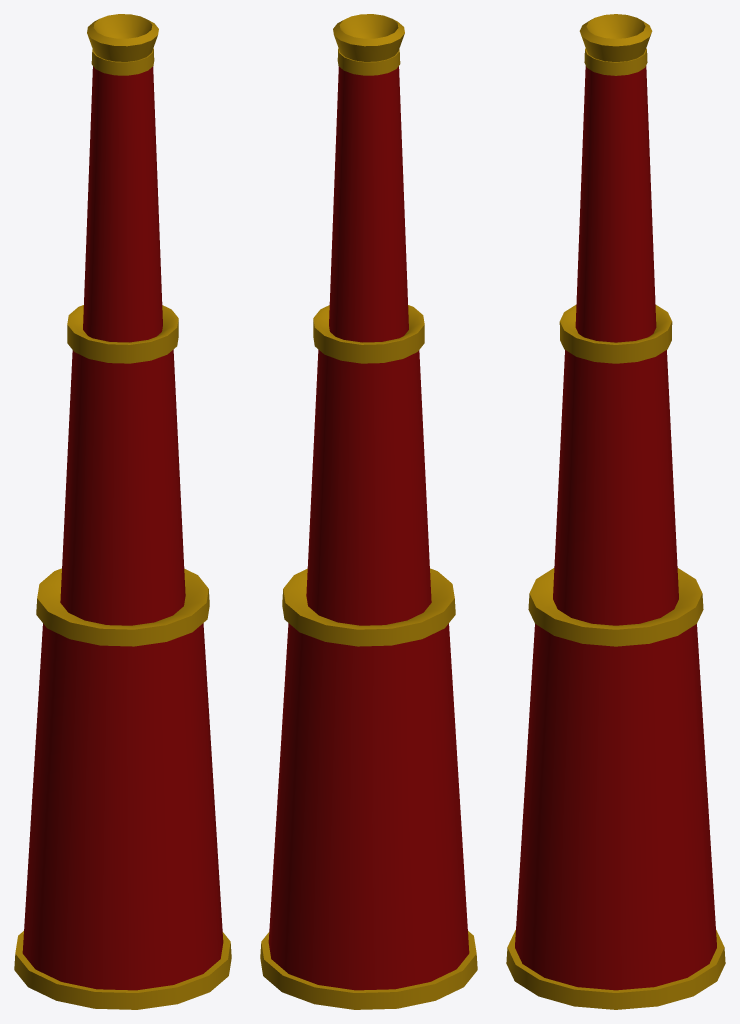
The model's file is spyglass.dae.
3 views of the same model, side by side, from view 1: azimuth 30°, elevation 25°; view 2: azimuth 150°, elevation 25°; view 3: azimuth 270°, elevation 25° (orthographic).
Visible parts, largest first — view 1: Spyglass-0; view 2: Spyglass-0; view 3: Spyglass-0.
Boxes of the visible parts, x1,y1,x2,y2 form: Spyglass-0: [14, 14, 231, 1009]; Spyglass-0: [260, 14, 477, 1009]; Spyglass-0: [506, 14, 725, 1009].
Bounding box in the file's own units: 0.2574 × 1.22 × 0.2574.
